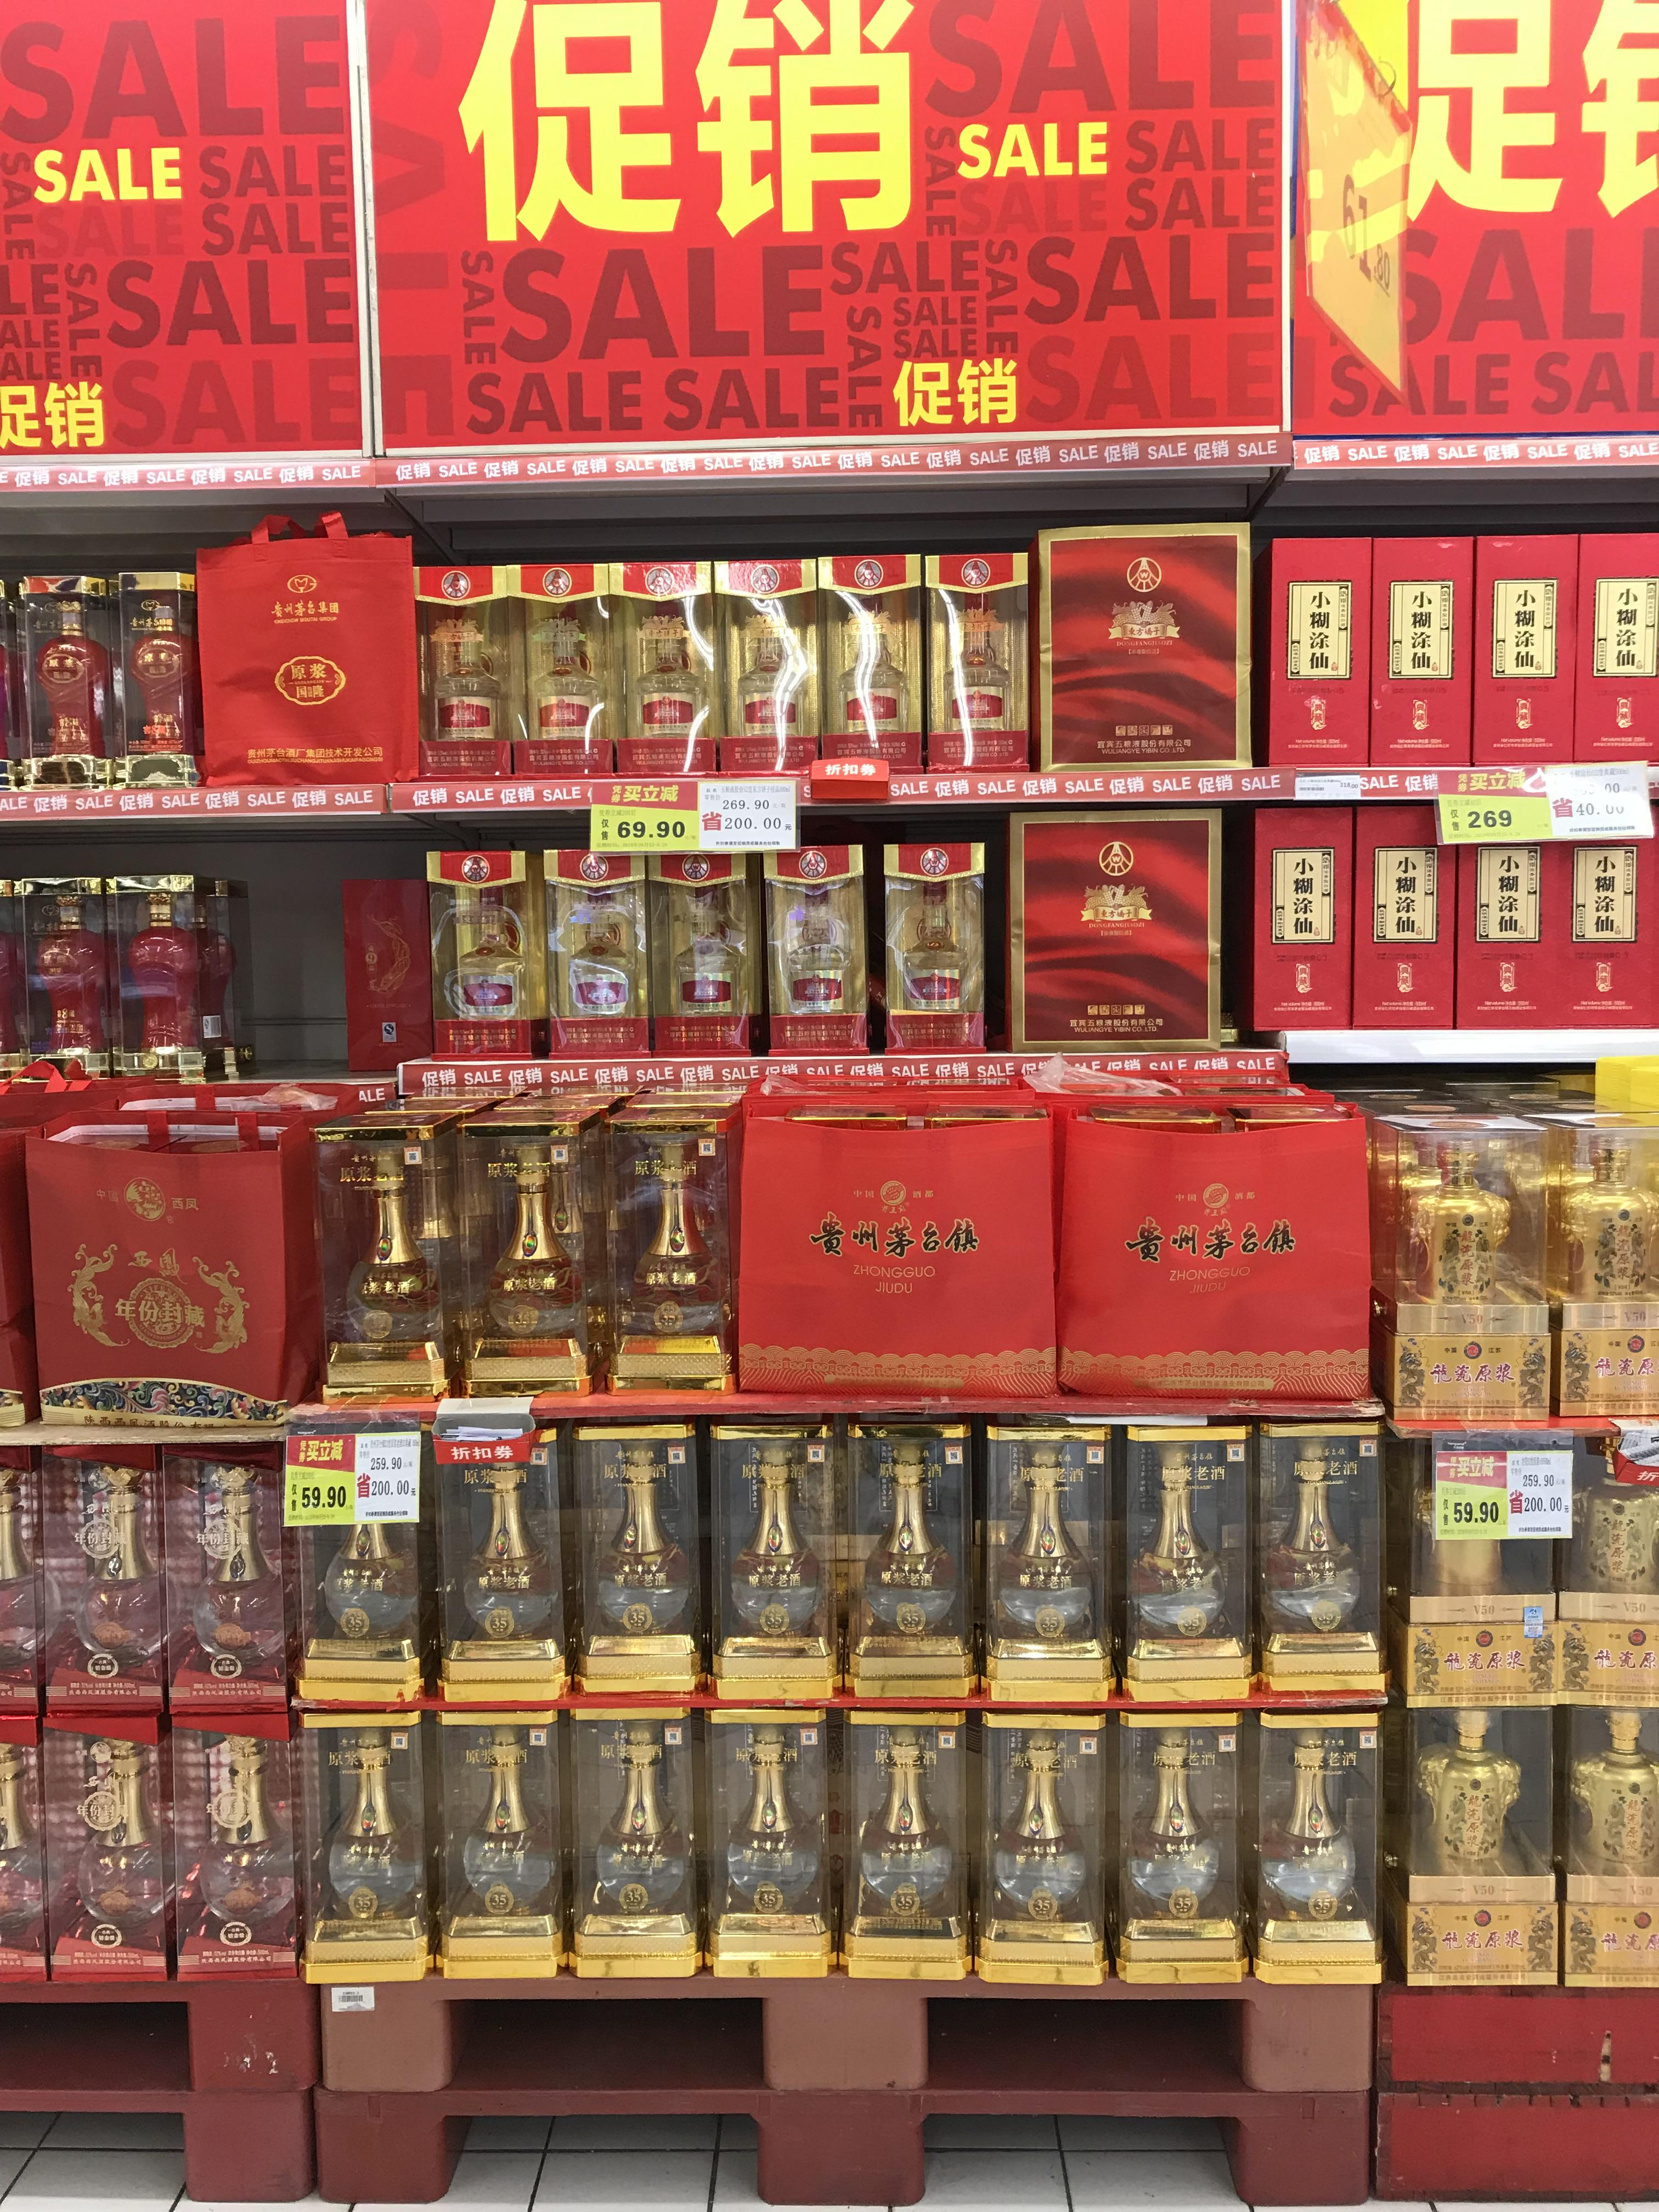bag: (601, 1096, 727, 1386), (1258, 1407, 1382, 1695), (443, 1418, 566, 1702), (711, 1409, 831, 1689), (570, 1411, 692, 1686), (978, 1707, 1101, 1965), (51, 1439, 183, 1679), (169, 1705, 295, 1958), (573, 1688, 688, 1963), (437, 1705, 558, 1958), (845, 1695, 960, 1958), (709, 1693, 823, 1954), (169, 1444, 291, 1683), (298, 1451, 420, 1689), (52, 1728, 176, 1958), (1253, 1698, 1371, 1933), (308, 1703, 425, 1942), (1115, 1707, 1227, 1944), (760, 1695, 864, 1946), (544, 824, 652, 1050), (650, 831, 746, 1047), (927, 547, 1018, 772), (878, 852, 978, 1049), (439, 843, 533, 1045)
bottle: (1542, 1082, 1657, 1411), (981, 1411, 1103, 1691), (850, 1413, 965, 1683), (28, 874, 110, 1085), (120, 876, 192, 1089), (188, 874, 246, 1089)
box: (321, 1103, 458, 1404), (458, 1104, 598, 1397), (1114, 1418, 1236, 1698), (1551, 1702, 1659, 1996), (1225, 801, 1347, 1036), (1457, 803, 1584, 1024), (1364, 533, 1467, 782), (326, 873, 444, 1083), (1466, 531, 1565, 772), (1342, 808, 1445, 1028), (1563, 531, 1654, 768), (728, 552, 821, 772), (767, 848, 866, 1049), (1570, 798, 1656, 1028), (824, 545, 911, 766), (113, 573, 202, 787), (521, 556, 608, 768), (24, 573, 110, 789), (411, 566, 500, 772), (624, 563, 709, 772)
others: (718, 1068, 1063, 1395), (1053, 1066, 1373, 1409), (17, 1108, 328, 1435), (181, 524, 416, 794), (1368, 1096, 1565, 1413), (1021, 519, 1258, 773), (997, 806, 1218, 1057), (1398, 1702, 1544, 2001), (1413, 1423, 1567, 1698), (1265, 523, 1375, 779), (1565, 1437, 1659, 1703)
